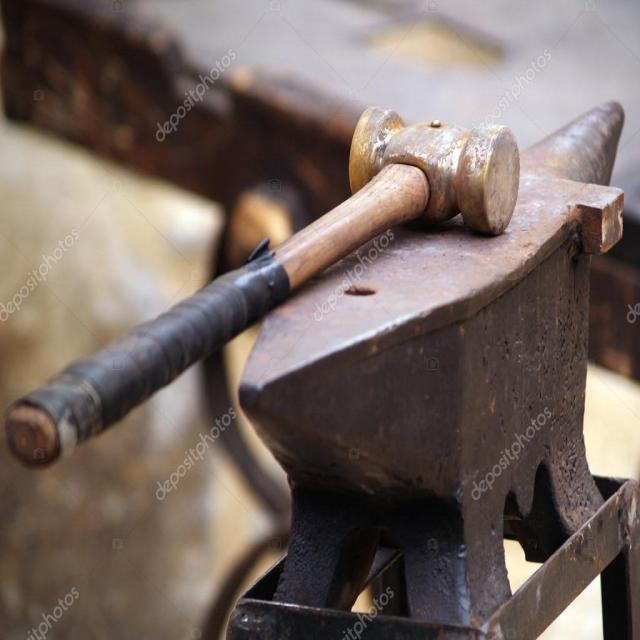hammer: (0, 100, 526, 480)
